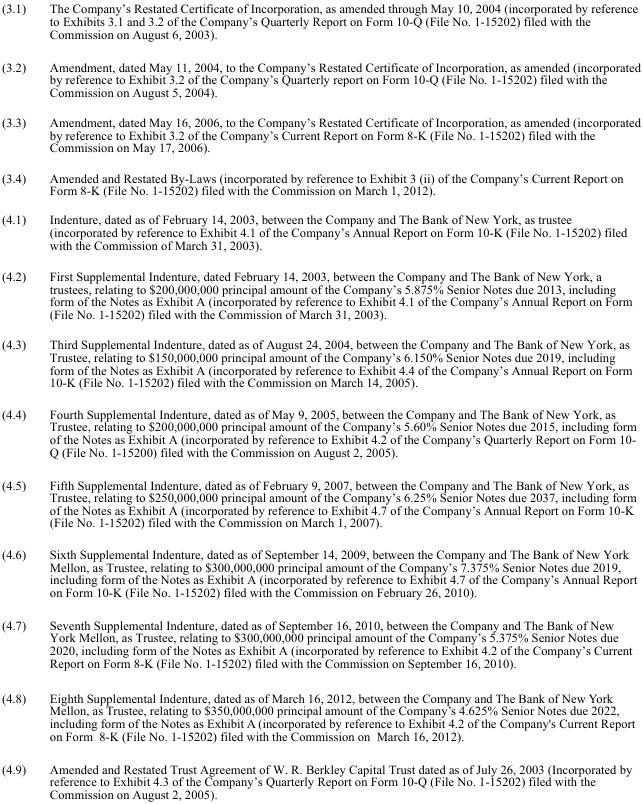table: (0, 1, 639, 800)
table column: (36, 1, 639, 800), (0, 1, 36, 800)
table row: (0, 679, 639, 751), (0, 537, 639, 608), (0, 608, 639, 679), (0, 397, 639, 467), (0, 467, 639, 537), (0, 328, 639, 397), (0, 260, 639, 328), (0, 49, 639, 106), (0, 106, 639, 162), (0, 204, 639, 260), (0, 751, 639, 800), (0, 1, 639, 49), (0, 162, 639, 204)
